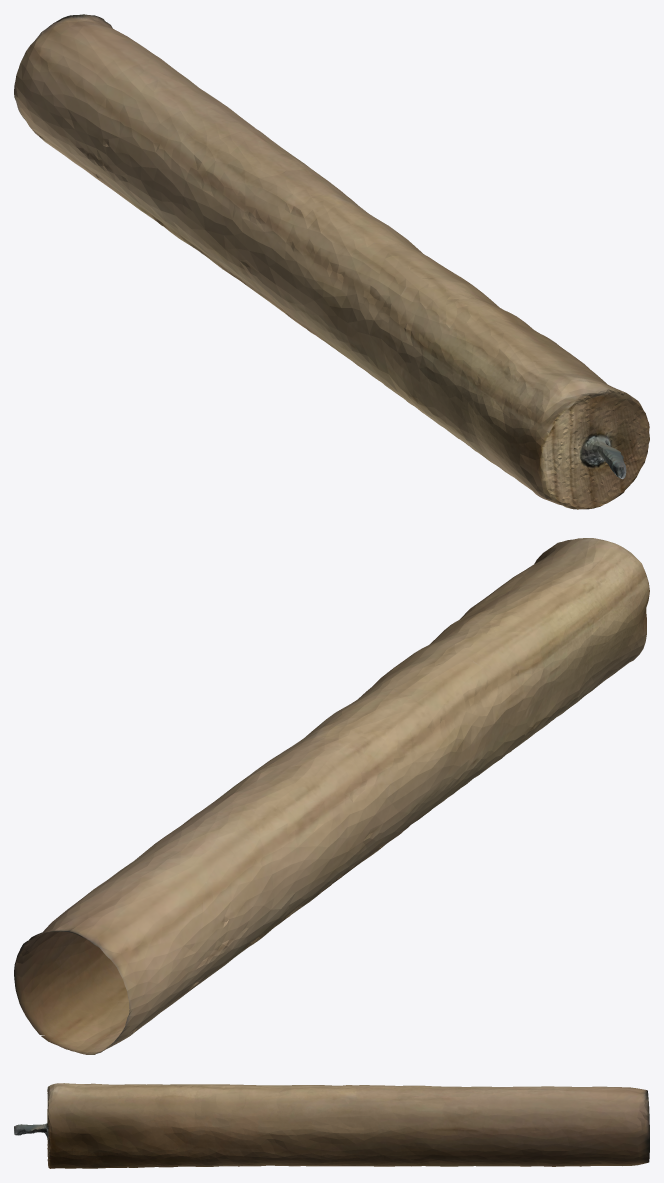
File: stool-leg.obj
The picture shows the model from 3 angles, top to bottom: view 1: azimuth 30°, elevation 25°; view 2: azimuth 150°, elevation 25°; view 3: azimuth 270°, elevation 25°; orthographic projection. The views are drawn at different scales.
Visible parts, largest first — view 1: stool-leg; view 2: stool-leg; view 3: stool-leg.
Part boxes in pixels (x1,y1,x2,y2): stool-leg: [14, 14, 649, 509]; stool-leg: [14, 538, 649, 1054]; stool-leg: [14, 1083, 649, 1168].
Size of the model in its own units: 0.0348 by 0.0342 by 0.261.
